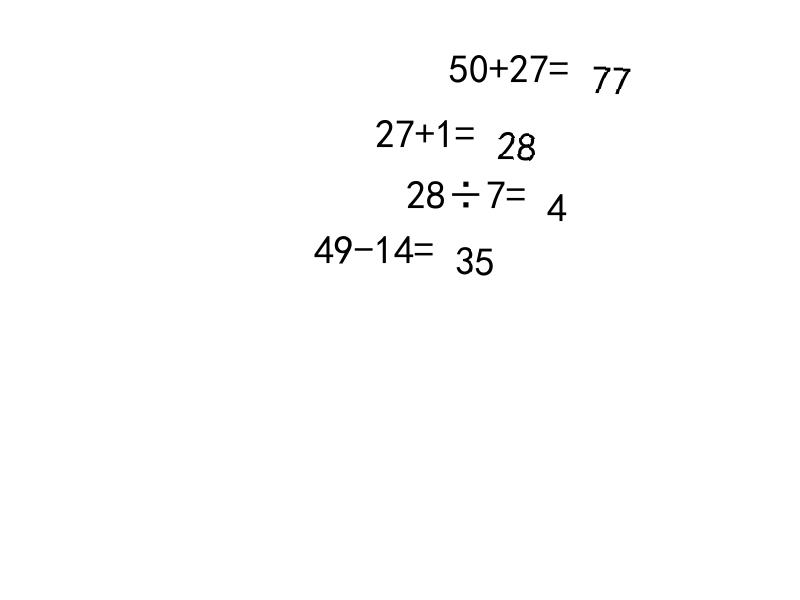+: (489, 48, 509, 78), (415, 113, 435, 142)
-: (354, 229, 374, 257)
0: (469, 48, 489, 78)
1: (435, 113, 455, 142), (374, 229, 394, 257)
2: (509, 48, 529, 78), (375, 113, 395, 142), (485, 113, 505, 142), (406, 174, 426, 203)
3: (444, 229, 464, 257)
4: (536, 174, 556, 203), (314, 229, 334, 257), (394, 229, 414, 257)
5: (449, 48, 469, 78), (464, 229, 484, 257)
7: (529, 48, 549, 78), (579, 48, 599, 78), (599, 48, 619, 78), (395, 113, 415, 142), (486, 174, 506, 203)
8: (505, 113, 525, 142), (426, 174, 446, 203)
9: (334, 229, 354, 257)
=: (549, 48, 569, 78), (455, 113, 475, 142), (506, 174, 526, 203), (414, 229, 434, 257)
÷: (446, 174, 486, 203)
